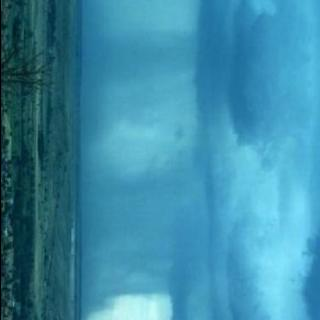Nimbostratus: (82, 0, 320, 320)
